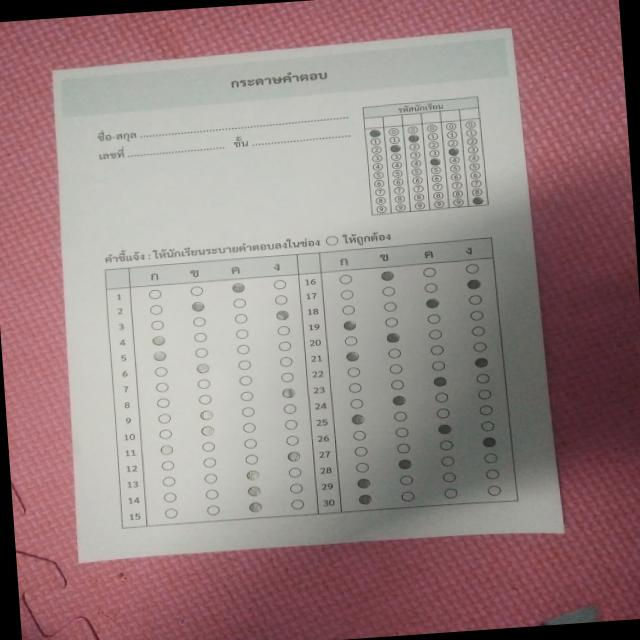Choice: (93, 232, 528, 536)
ID: (356, 89, 499, 222)
